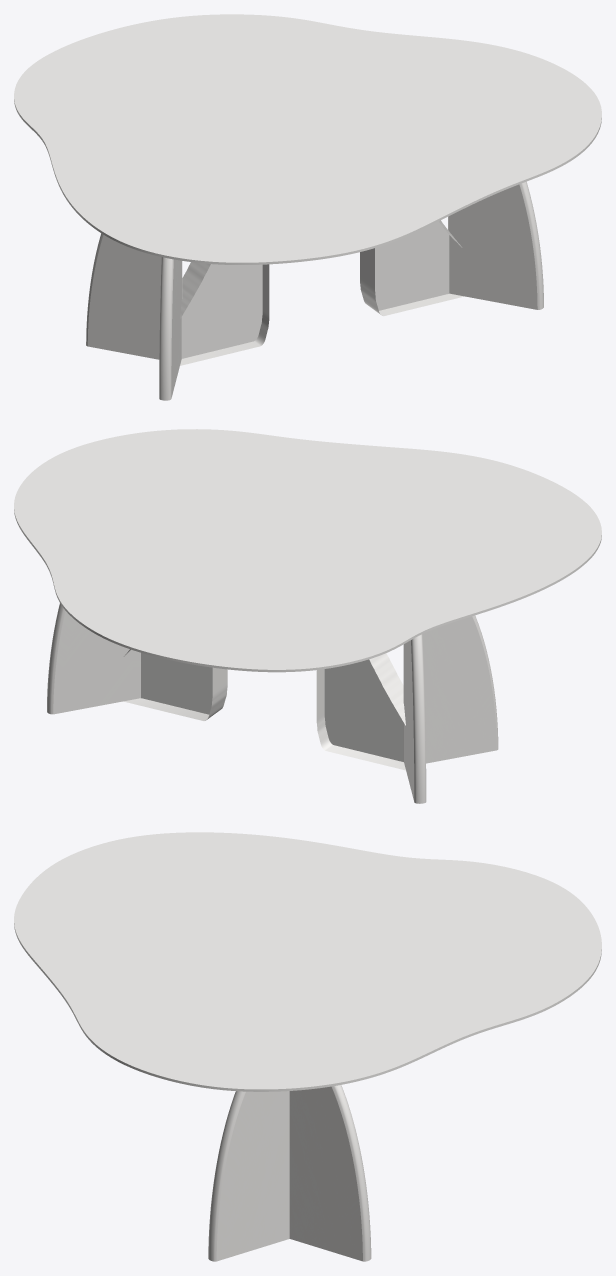
The model's file is purewhite_topone_facet_plane.glb.
3 views of the same model, one above another, from view 1: azimuth 30°, elevation 25°; view 2: azimuth 150°, elevation 25°; view 3: azimuth 270°, elevation 25° (orthographic). The views are drawn at different scales.
Parts seen in each view (by area): view 1: facet_topone, plane_singleright2, plane_single1, plane_singleleft1, plane_single2, plane_singleright1; view 2: facet_topone, plane_singleright1, plane_single1, plane_singleleft2, plane_single2, plane_singleleft1; view 3: facet_topone, plane_singleleft2, plane_singleright2.
Part boxes in pixels (x1=…): facet_topone: x1=14, y1=14, x2=601, y2=264; plane_singleright2: x1=448, y1=181, x2=543, y2=309; plane_single1: x1=180, y1=262, x2=269, y2=365; plane_singleleft1: x1=86, y1=233, x2=182, y2=359; plane_single2: x1=360, y1=220, x2=464, y2=316; plane_singleright1: x1=159, y1=257, x2=181, y2=400; facet_topone: x1=14, y1=429, x2=601, y2=672; plane_singleright1: x1=403, y1=615, x2=498, y2=763; plane_single1: x1=316, y1=653, x2=405, y2=770; plane_singleleft2: x1=47, y1=603, x2=140, y2=714; plane_single2: x1=123, y1=649, x2=227, y2=720; plane_singleleft1: x1=404, y1=634, x2=426, y2=803; facet_topone: x1=14, y1=832, x2=601, y2=1091; plane_singleleft2: x1=289, y1=1085, x2=371, y2=1261; plane_singleright2: x1=208, y1=1091, x2=289, y2=1261.
Size of the model in its own units: 6.83 by 2.49 by 6.6.
Materials: 1 (1 with a texture image).
